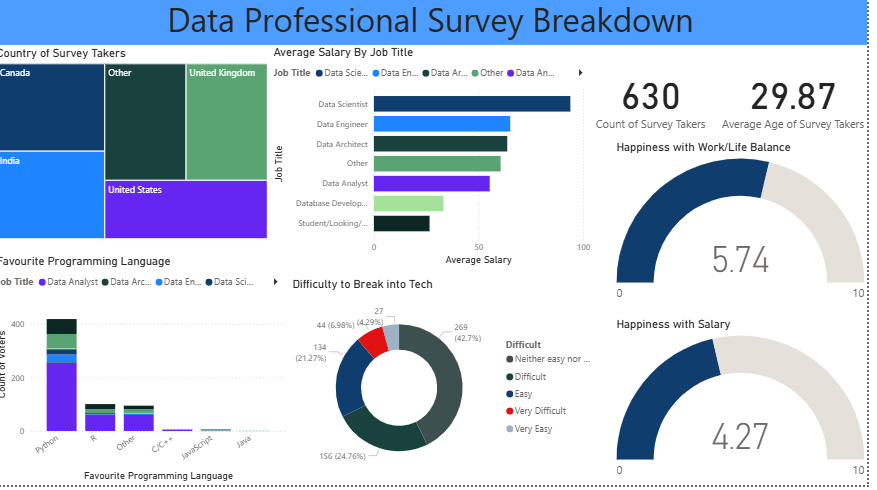

The dashboard page shown, as its layout file describes it:
{"tool":"powerbi","page":{"name":"Page 1","canvas":[1280,720],"ordinal":0},"visuals":[{"type":"textbox","box":[0,0,1280,76],"z":0},{"type":"card","fields":{"Values":["Count(Data Professional Survey.Unique ID)"]},"box":[865.4,77,195,152.4],"z":1000},{"type":"card","fields":{"Values":["Avg(Data Professional Survey.Q10 - Current Age)"]},"box":[1060.4,77,219.6,152.4],"z":2000},{"type":"barChart","title":"Average Salary By Job Title","fields":{"Category":["Data Professional Survey.Q1 - Which Title Best Fits your Current Role?.1"],"Y":["Avg(Data Professional Survey.Average Salary)"],"Series":["Data Professional Survey.Q1 - Which Title Best Fits your Current Role?.1"]},"box":[406,75.9,473.6,327.2],"z":3000},{"type":"columnChart","title":"Favourite Programming Language","fields":{"Category":["Data Professional Survey.Q5 - Favorite Programming Language.1"],"Y":["CountNonNull(Data Professional Survey.Unique ID)"],"Series":["Data Professional Survey.Q1 - Which Title Best Fits your Current Role?.1"]},"box":[0,382.7,433.3,337.3],"z":4000},{"type":"treemap","title":"Country of Survey Takers","fields":{"Group":["Data Professional Survey.Q11 - Which Country do you live in?.1"],"Values":["Count(Data Professional Survey.Q11 - Which Country do you live in?.1)"]},"box":[0,77,406.5,286.8],"z":5000},{"type":"gauge","title":"Happiness with Salary","fields":{"Y":["Avg(Data Professional Survey.Q6 - How Happy are you in your Current Position with the following? (Salary))"],"MinValue":["Min(Data Professional Survey.Q6 - How Happy are you in your Current Position with the following? (Salary))"],"MaxValue":["Max(Data Professional Survey.Q6 - How Happy are you in your Current Position with the following? (Salary))"]},"box":[907.2,473.6,372.8,245.8],"z":6000},{"type":"gauge","title":"Happiness with Work/Life Balance","fields":{"Y":["Avg(Data Professional Survey.Q6 - How Happy are you in your Current Position with the following? (Work/Life Balance))"],"MinValue":["Min(Data Professional Survey.Q6 - How Happy are you in your Current Position with the following? (Work/Life Balance))"],"MaxValue":["Max(Data Professional Survey.Q6 - How Happy are you in your Current Position with the following? (Work/Life Balance))1"]},"box":[907.2,215.4,372.8,245.8],"z":7000},{"type":"donutChart","title":"Difficulty to Break into Tech","fields":{"Category":["Data Professional Survey.Q7 - How difficult was it for you to break into Data?"],"Y":["CountNonNull(Data Professional Survey.Q7 - How difficult was it for you to break into Data?)"]},"box":[432.7,416.3,457.3,303.2],"z":8000}]}

Visuals, with their boxes in screenshot pixels (x1, y1, x2, y2), scaled from the page's 1280x720 canvas onto the 877x490 screenshot:
textbox: [0, 0, 876, 52]
card - Count(Data Professional Survey.Unique ID): [593, 52, 727, 156]
card - Avg(Data Professional Survey.Q10 - Current Age): [727, 52, 876, 156]
"Average Salary By Job Title" barChart: [278, 52, 603, 274]
"Favourite Programming Language" columnChart: [0, 260, 297, 489]
"Country of Survey Takers" treemap: [0, 52, 279, 248]
"Happiness with Salary" gauge: [622, 322, 876, 489]
"Happiness with Work/Life Balance" gauge: [622, 147, 876, 314]
"Difficulty to Break into Tech" donutChart: [296, 283, 610, 489]
